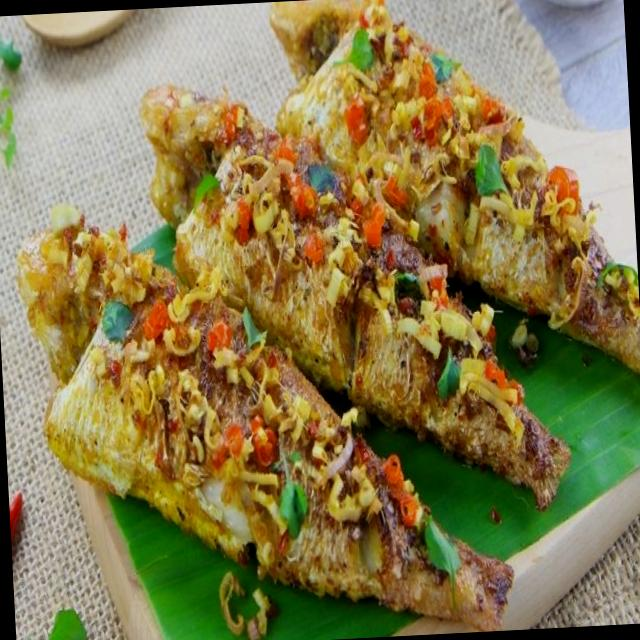ca chien: (366, 310, 640, 560), (108, 496, 413, 640)
chuoi: (17, 0, 640, 628)
